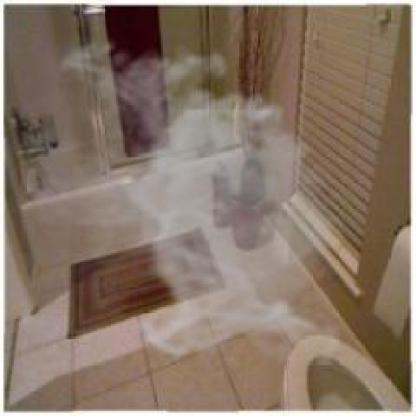Smoke: (21, 29, 359, 364)
